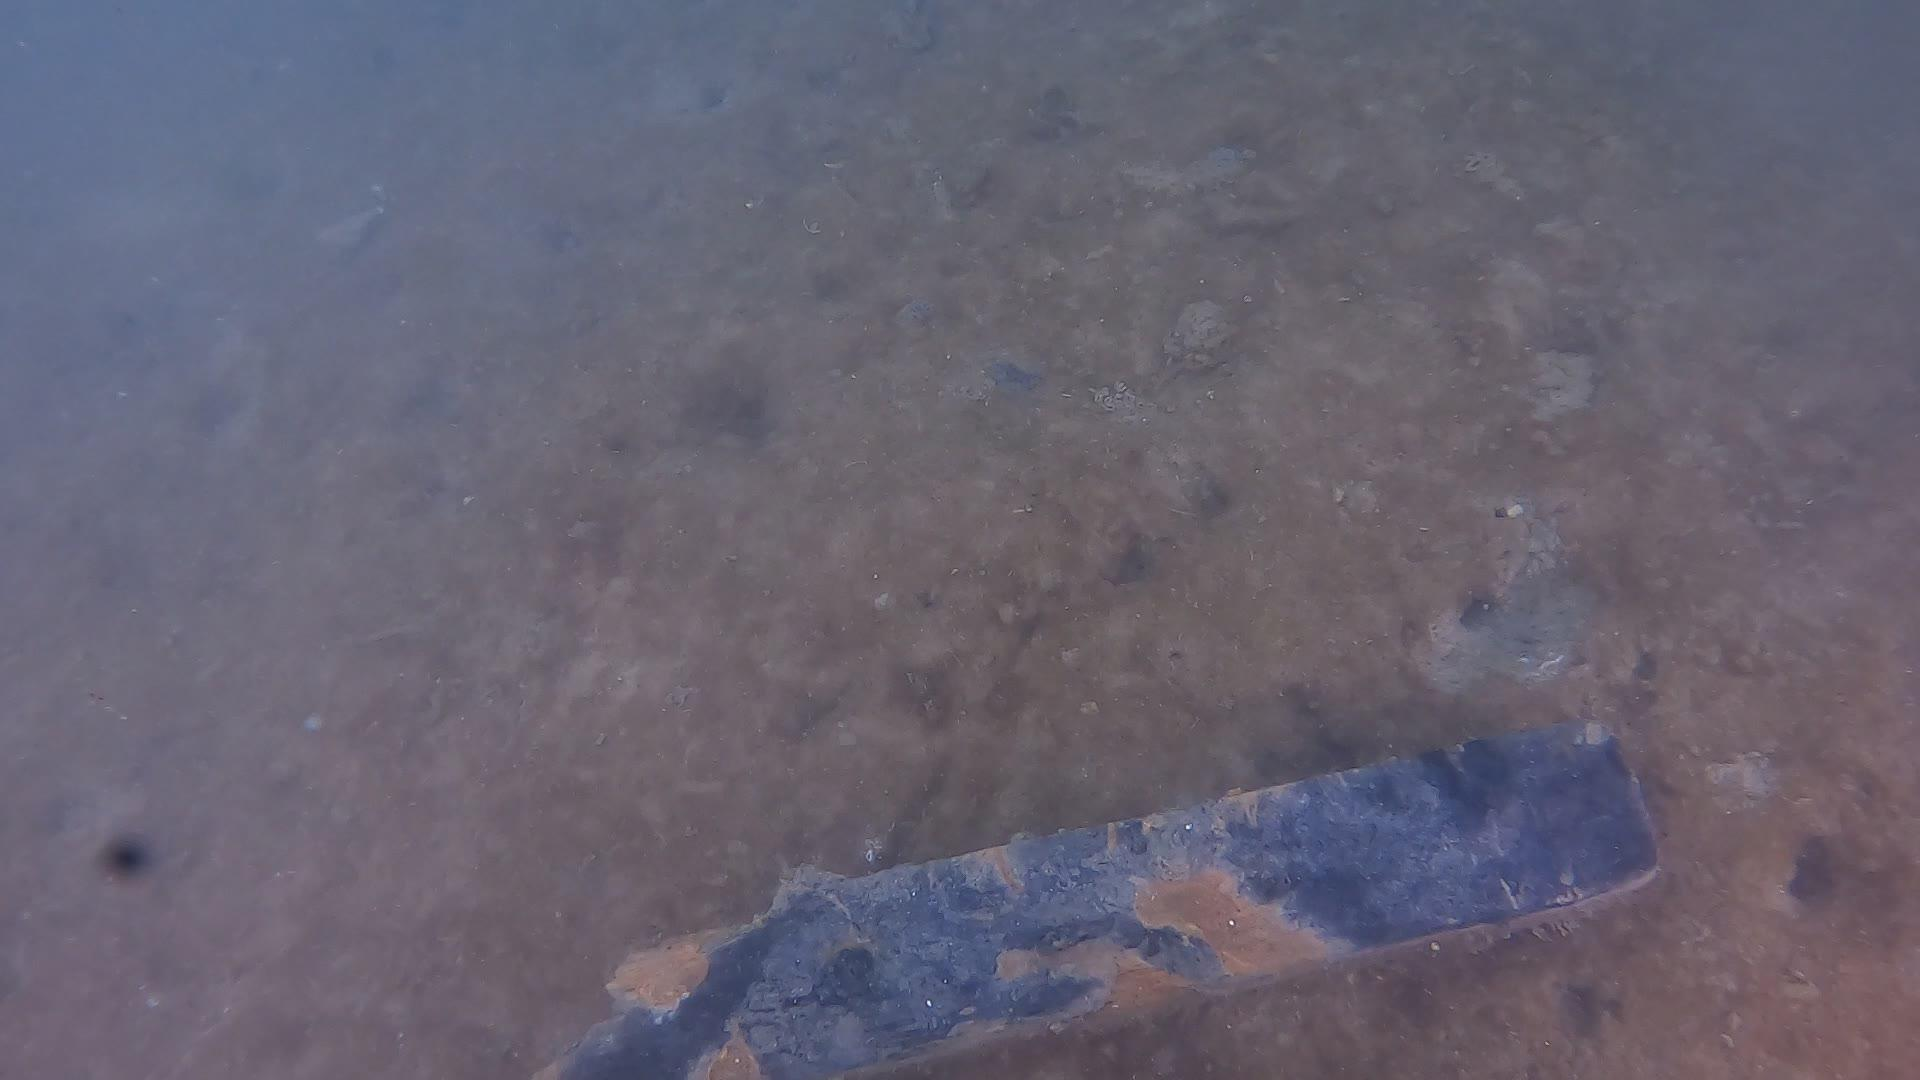wood: (529, 720, 1660, 1080)
